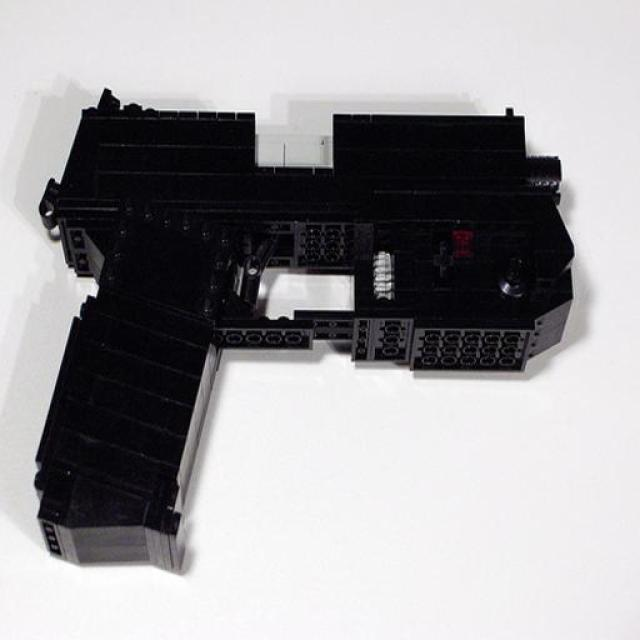pistol: (35, 91, 575, 562)
